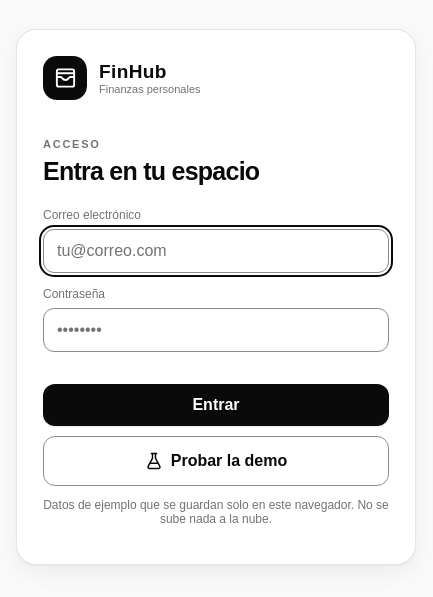
Test: pantalla de login › distingue el fallo de red del de credenciales
In the field labelled "Correo electrónico": (216, 251) [43, 229, 389, 273], type "yo@correo.com"
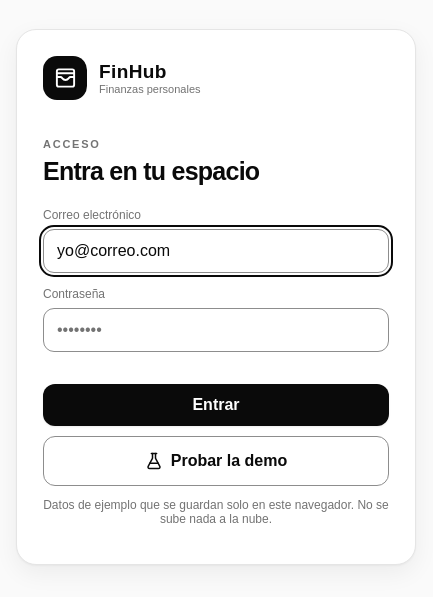
In the password field labelled "Contraseña": (216, 330) [43, 308, 389, 352], type "secreta"
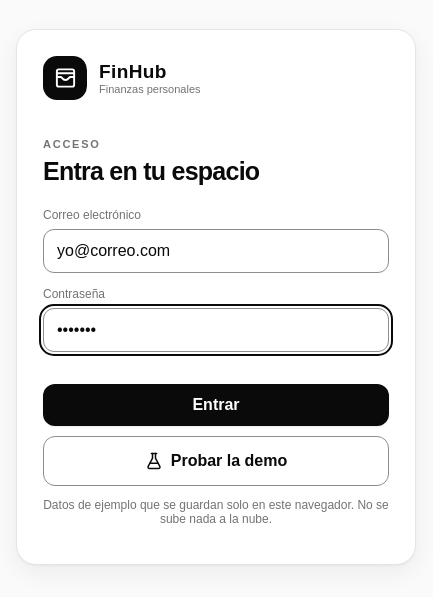
Click the button "Entrar": (216, 405) [43, 384, 389, 426]
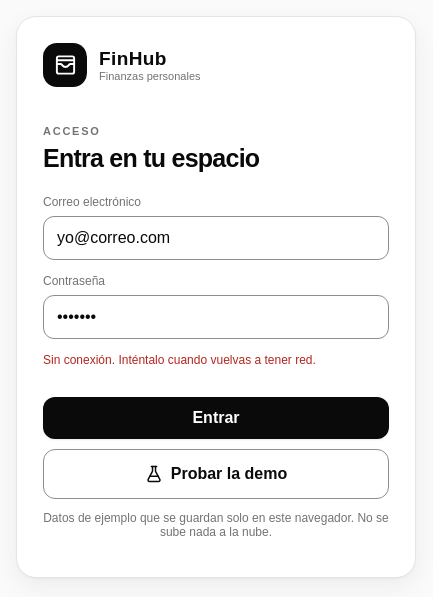
Result: the message reads "Sin conexión. Inténtalo cuando vuelvas a tener red." at [43, 353, 316, 367]
